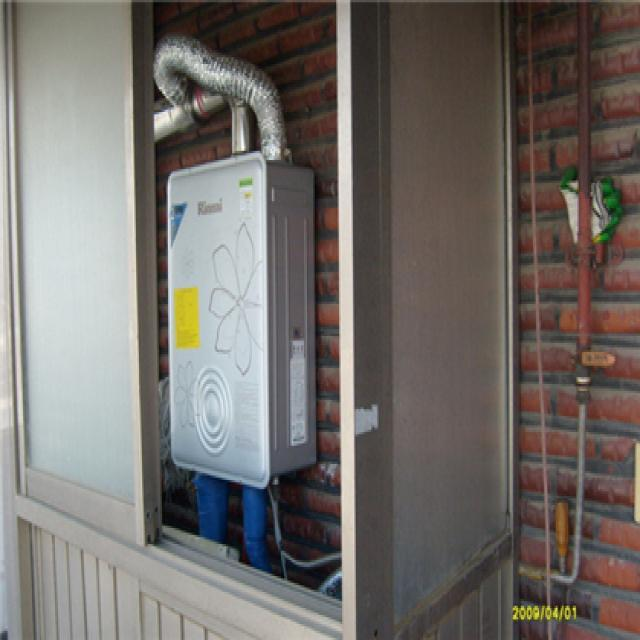Boiler: (138, 138, 342, 510)
